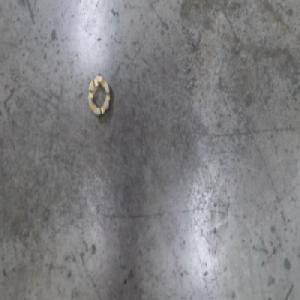Nut: (86, 70, 112, 117)
